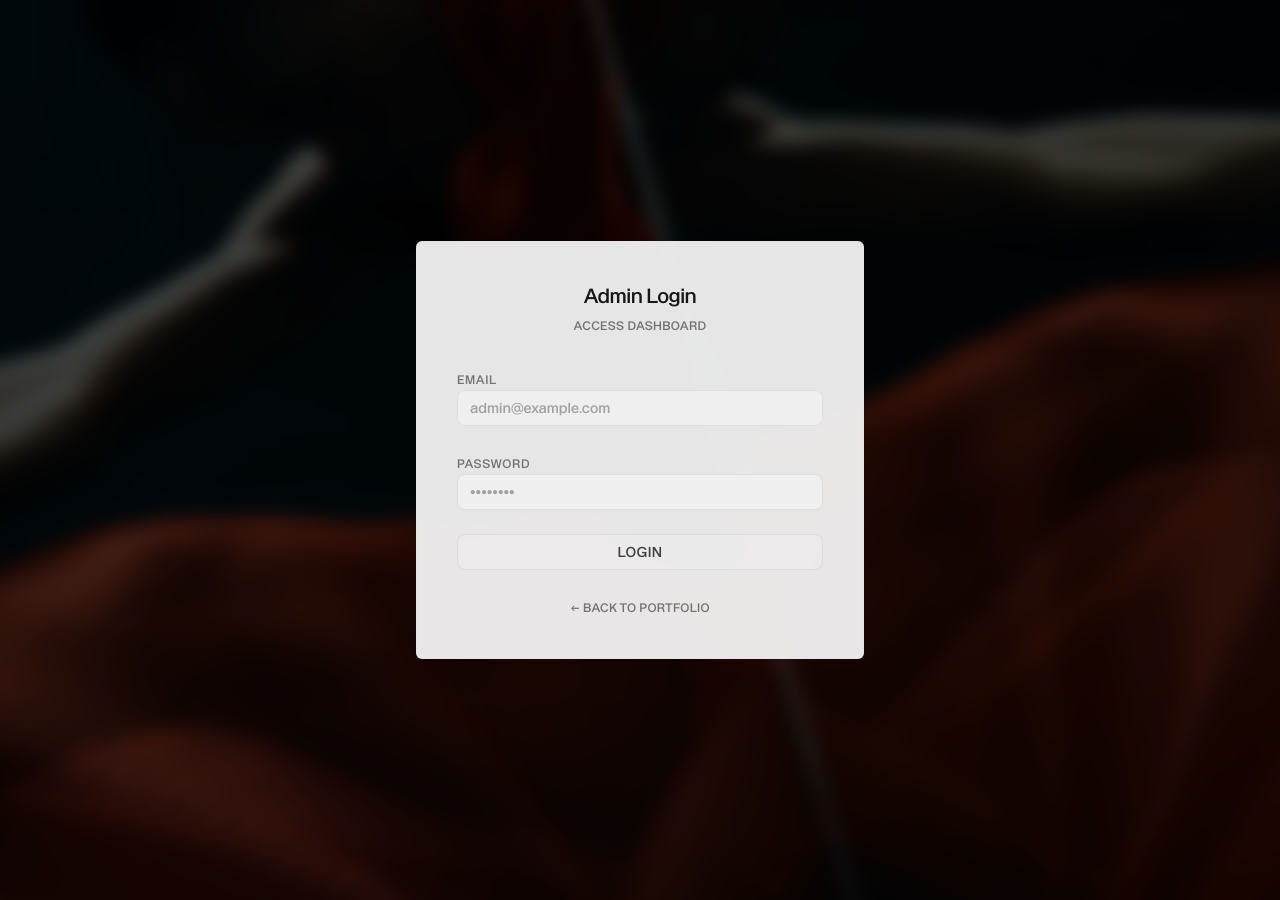
Test case: adminLogin › should show loading state on form submission
The width and height of the screenshot is (1280, 900).
Type "test@example.com" into the field labelled "Email" at (640,408), box [457,390,823,426]
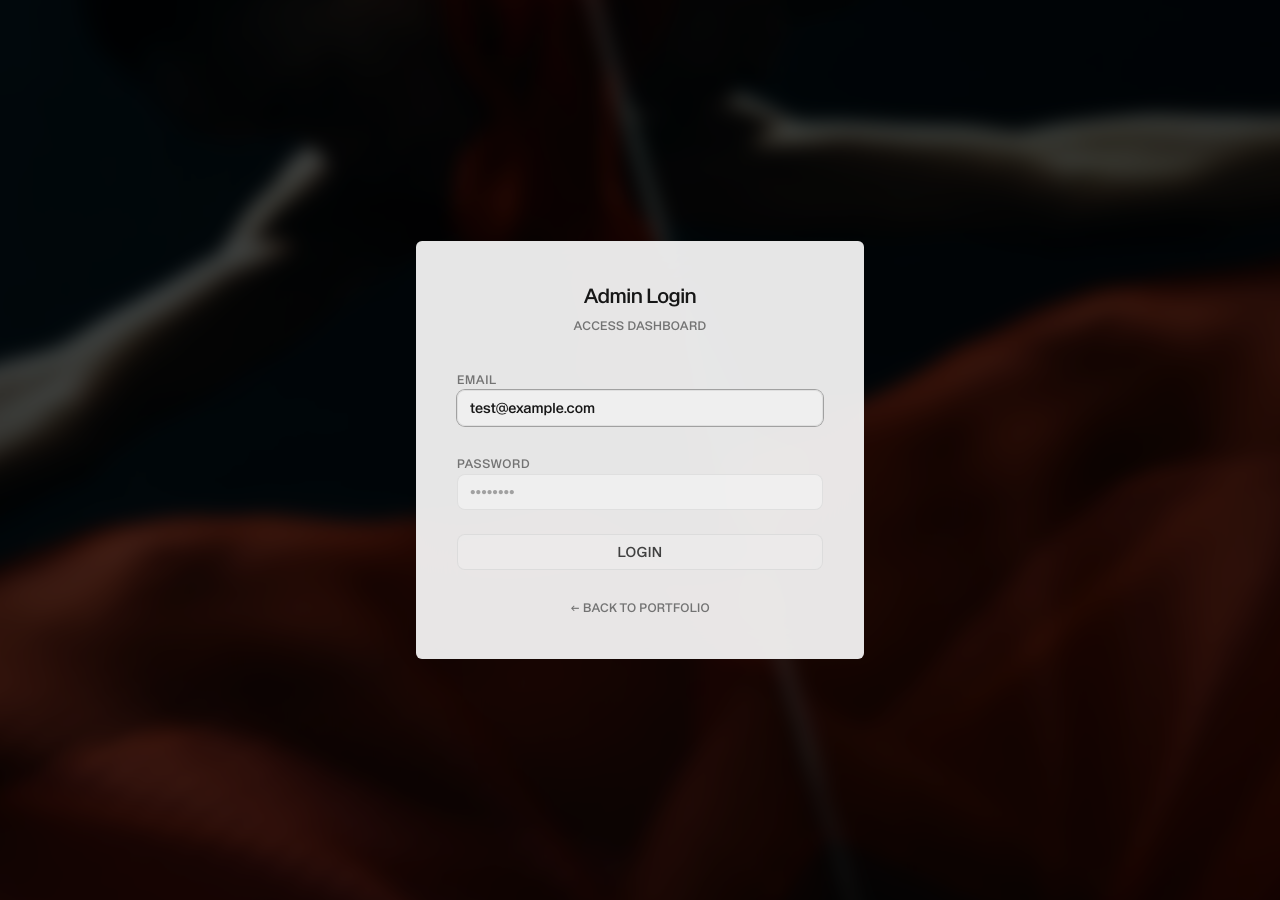
Type "password123" into the password field labelled "Password" at (640,492), box [457,474,823,510]
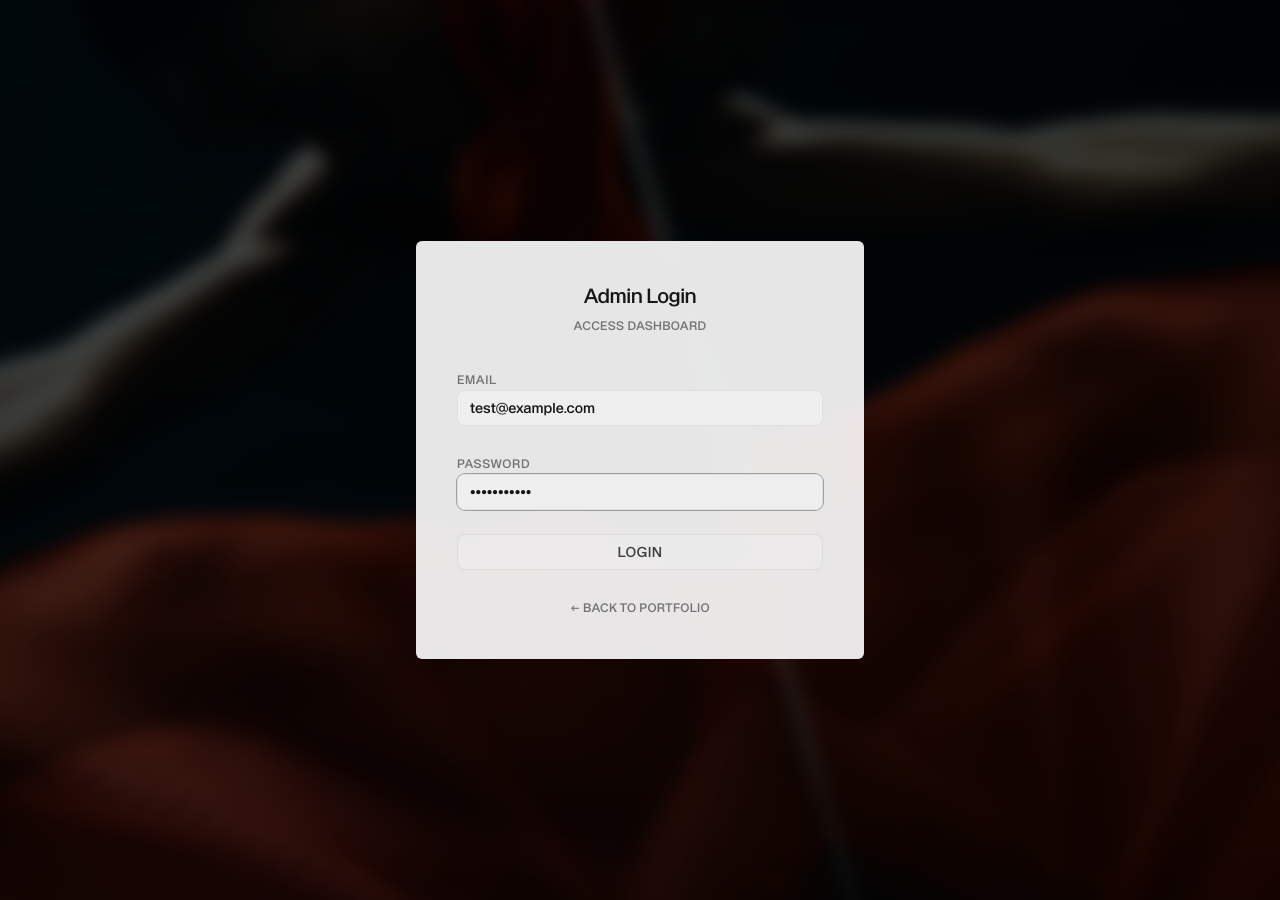
Click the button "Login" at (640,552), box [457,534,823,570]
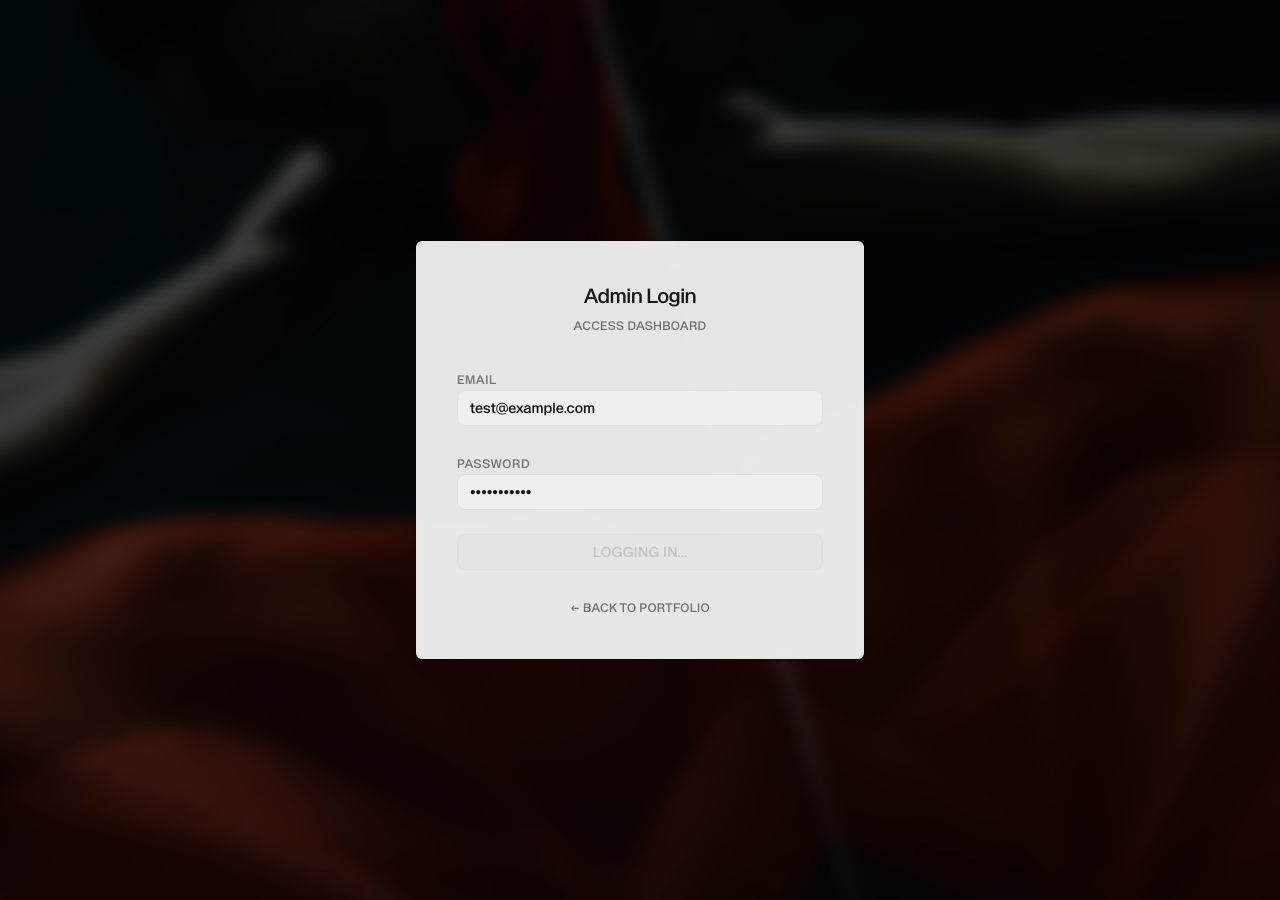
Expected: the button "Logging in..." is shown, [457,534,823,570]
